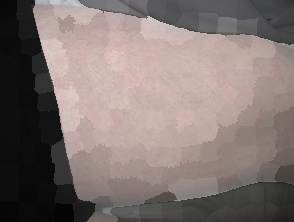SJS-TEN: (26, 0, 294, 222)
